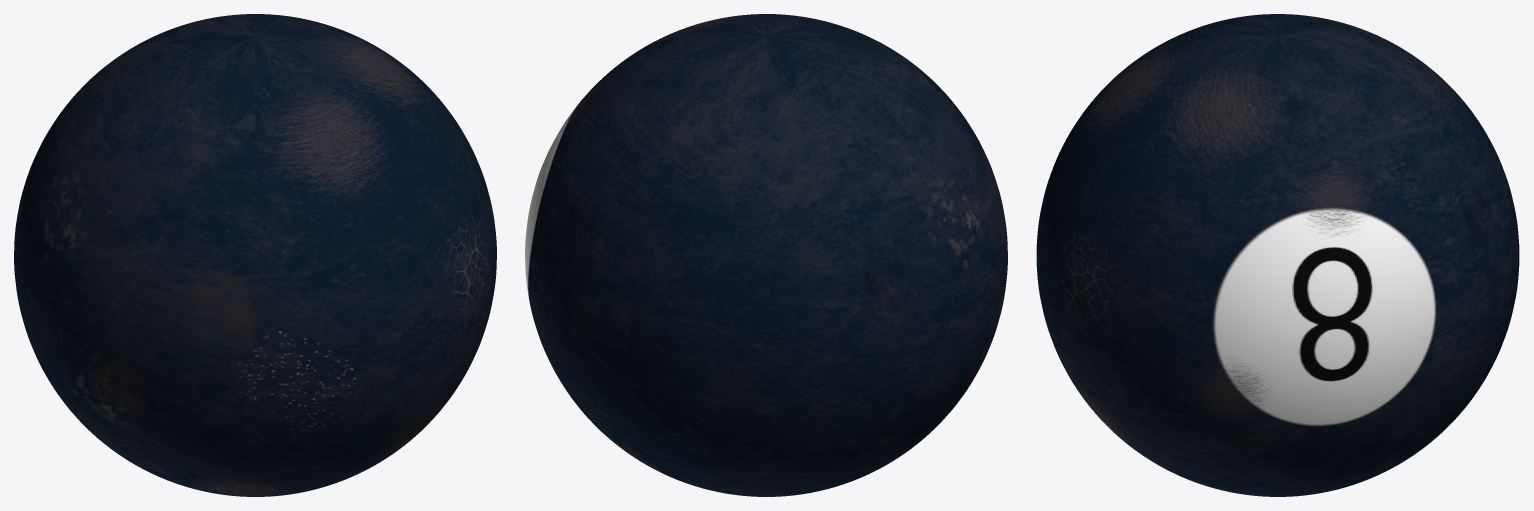
The model's file is old_billiard_ball.glb.
3 views of the same model, side by side, from view 1: azimuth 30°, elevation 25°; view 2: azimuth 150°, elevation 25°; view 3: azimuth 270°, elevation 25° (orthographic).
Parts seen in each view (by area): view 1: Sphere; view 2: Sphere; view 3: Sphere.
Boxes of the visible parts, x1,y1,x2,y2 form: Sphere: (14,14,496,496); Sphere: (525,14,1007,496); Sphere: (1036,14,1519,496).
Size of the model in its own units: 2 by 2 by 2.
1 material, 1 textured.
